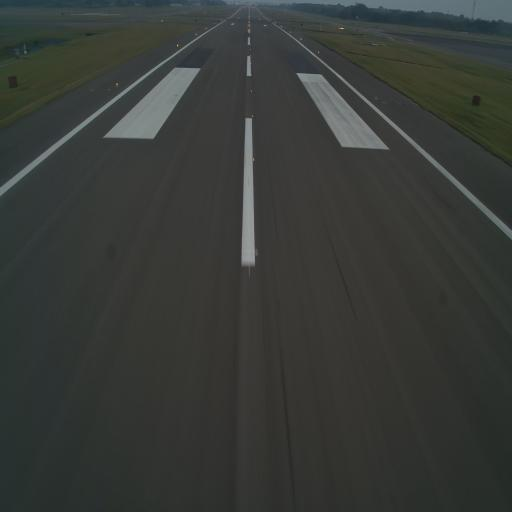off: (373, 95, 379, 103)
on: (252, 246, 259, 259), (115, 79, 121, 89), (250, 112, 255, 120), (252, 156, 256, 163), (250, 88, 254, 95), (316, 49, 320, 55), (176, 42, 179, 48), (250, 53, 252, 58), (250, 72, 252, 76), (250, 62, 252, 66), (250, 48, 252, 52), (300, 37, 302, 41), (195, 33, 197, 36)
